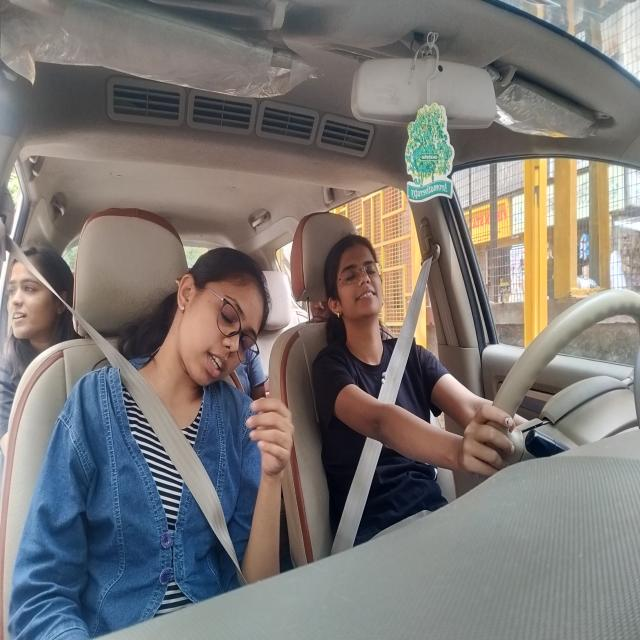drowsy: (320, 229, 394, 354)
person: (173, 222, 270, 405), (2, 224, 72, 392)
